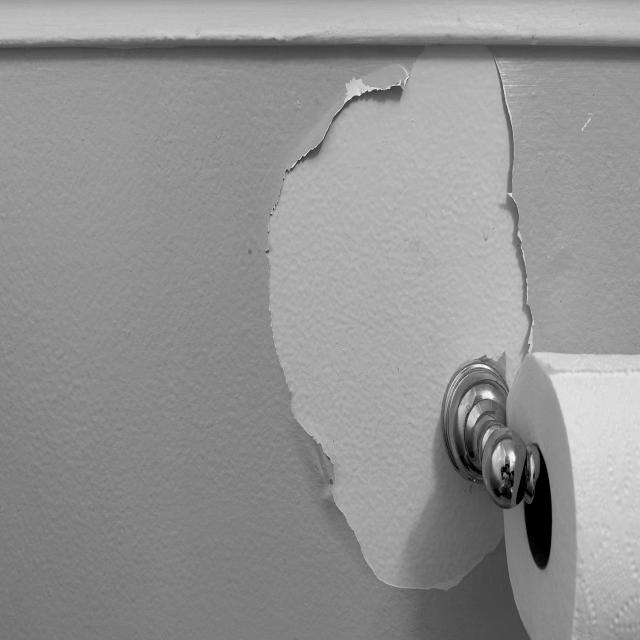peeling paint: (247, 40, 570, 625)
